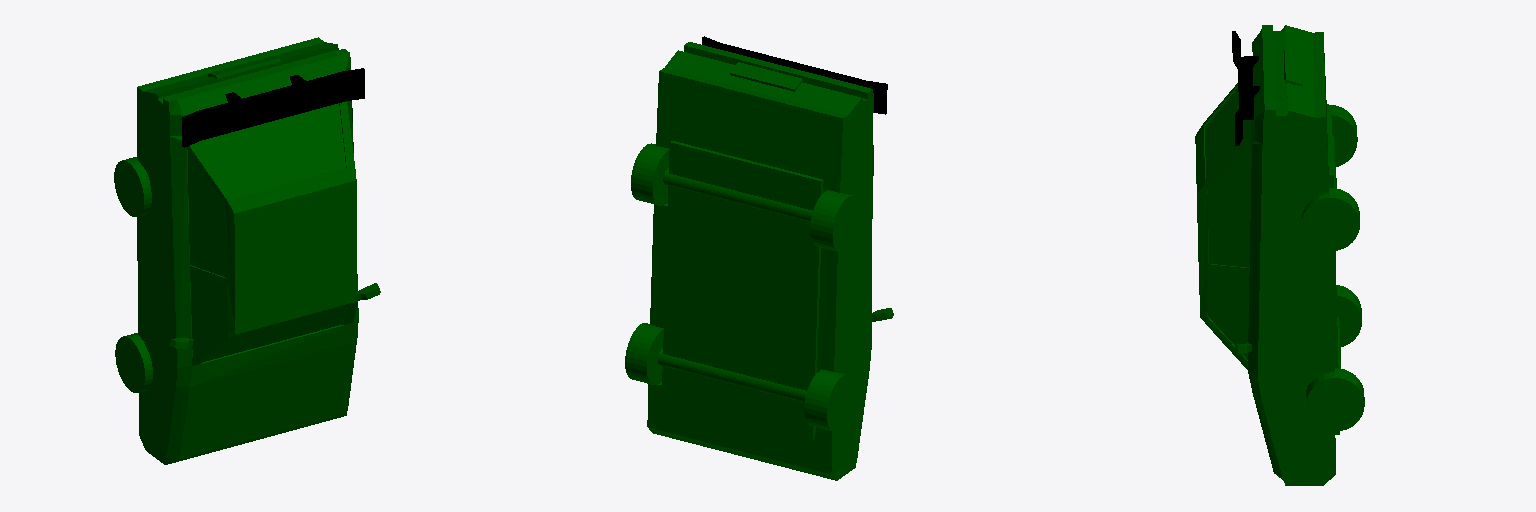
Rendered from yellow_car.obj.
The picture shows the model from 3 angles: view 1: azimuth 30°, elevation 25°; view 2: azimuth 150°, elevation 25°; view 3: azimuth 270°, elevation 25°; orthographic projection.
Visible parts, largest first — view 1: Cylinder.001, Cube.002; view 2: Cylinder.001, Cube.002; view 3: Cylinder.001, Cube.002.
Boxes of the visible parts, x1,y1,x2,y2 form: Cylinder.001: [114, 37, 380, 464]; Cube.002: [182, 68, 364, 147]; Cylinder.001: [625, 42, 893, 480]; Cube.002: [702, 36, 887, 114]; Cylinder.001: [1195, 25, 1364, 485]; Cube.002: [1232, 31, 1259, 145].
Bounding box in the file's own units: 2.31 × 3.96 × 1.61.